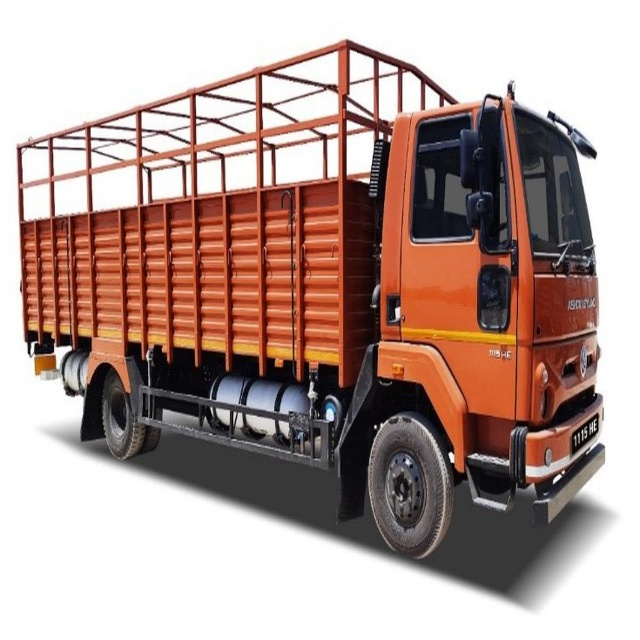Truck: (16, 38, 603, 559)
